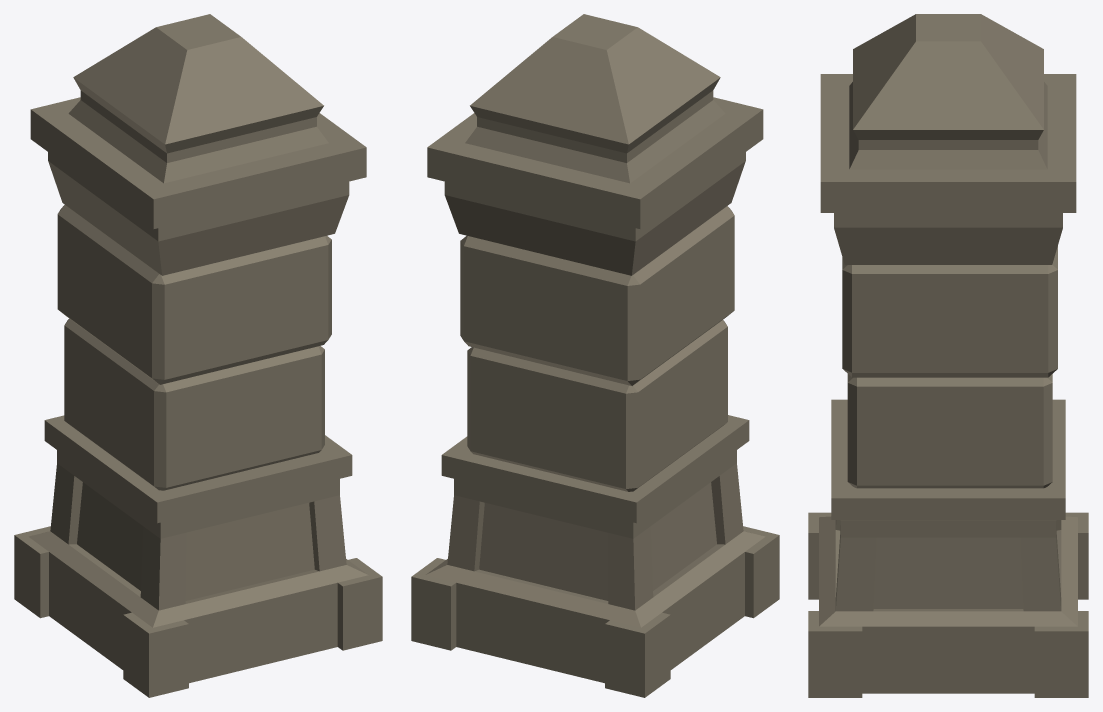
The model's file is TemplePillar_C.fbx.
3 renders of one model, left to right at view 1: azimuth 30°, elevation 25°; view 2: azimuth 150°, elevation 25°; view 3: azimuth 270°, elevation 25°, orthographic. The views are drawn at different scales.
Parts seen in each view (by area): view 1: TemplePillar_C; view 2: TemplePillar_C; view 3: TemplePillar_C.
Boxes of the visible parts, x1=… form: TemplePillar_C: x1=14, y1=14, x2=382, y2=697; TemplePillar_C: x1=411, y1=14, x2=779, y2=697; TemplePillar_C: x1=808, y1=14, x2=1088, y2=697.
Bounding box in the file's own units: 195 × 469 × 195.
